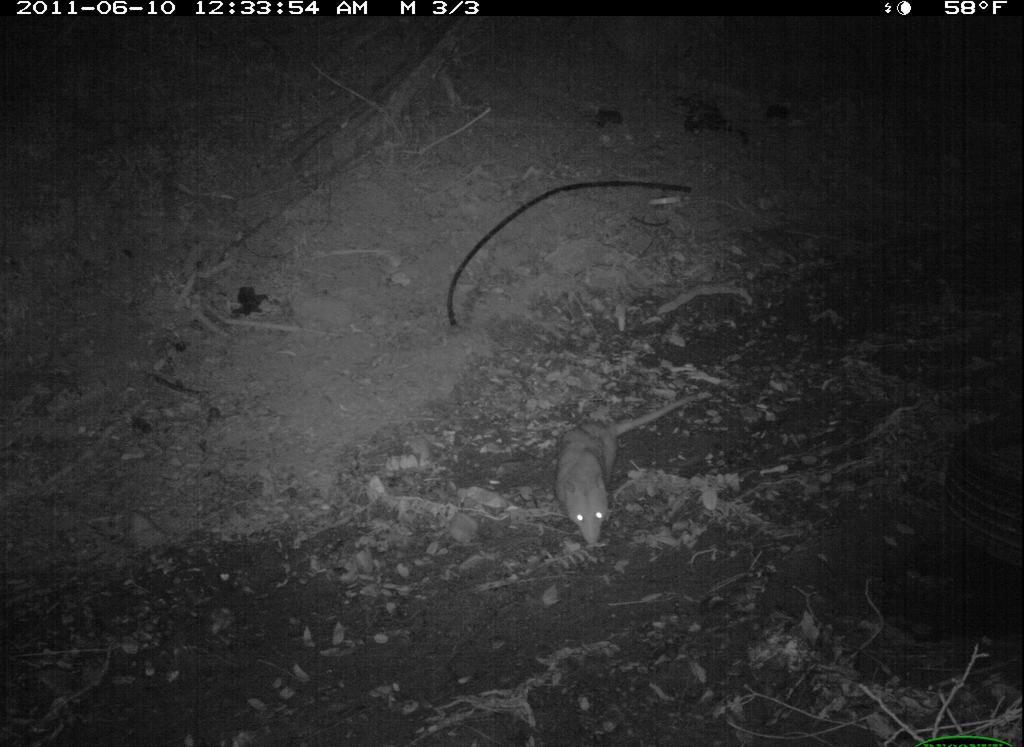opossum: (539, 381, 724, 557)
